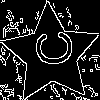C: (26, 29, 74, 68)
